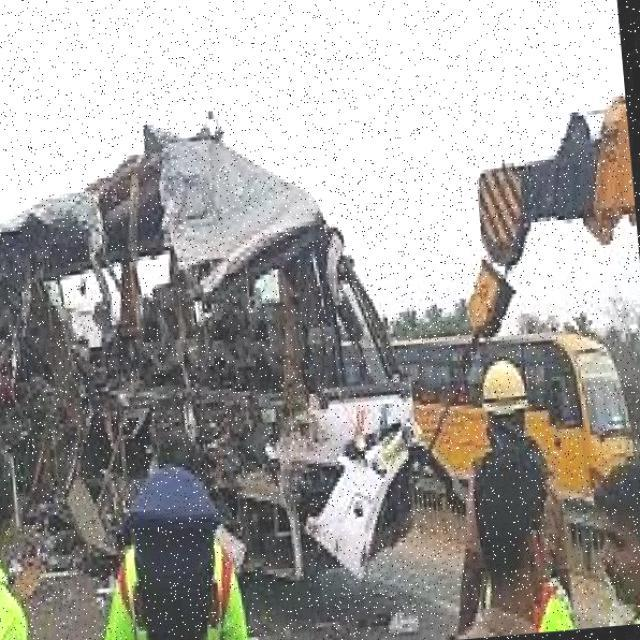accident: (0, 106, 435, 598)
